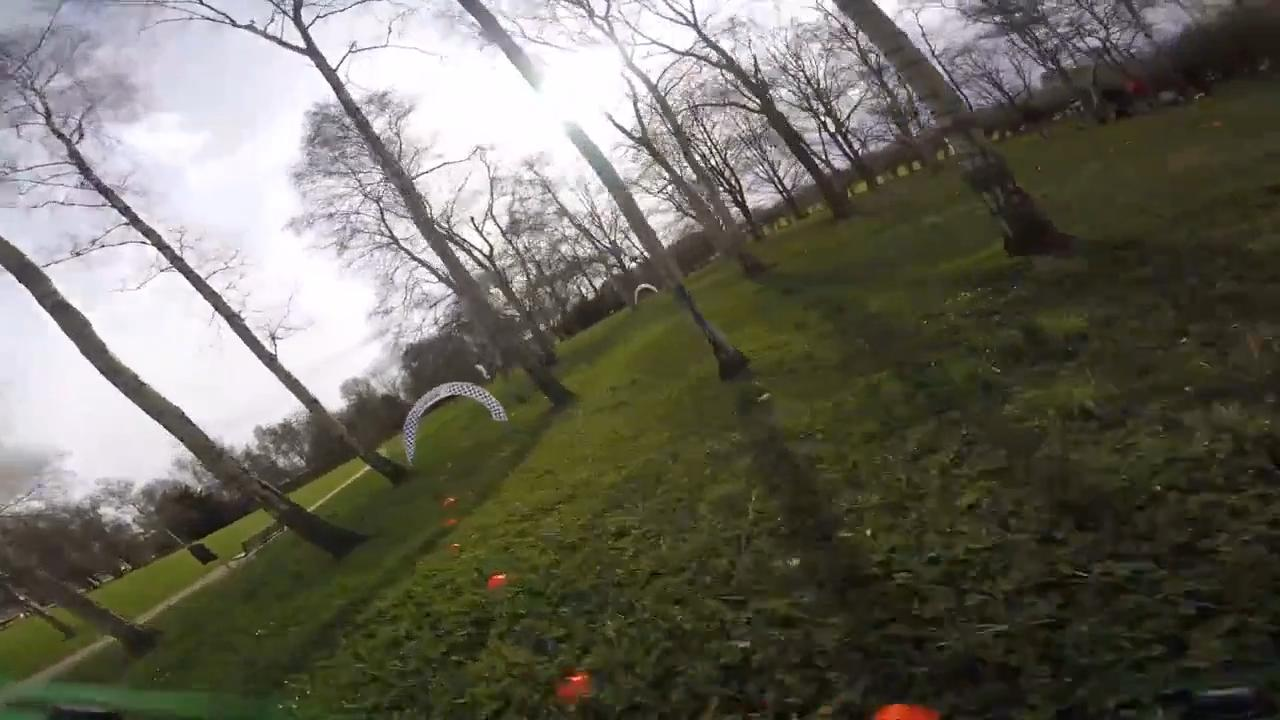gate: (395, 383, 513, 465)
